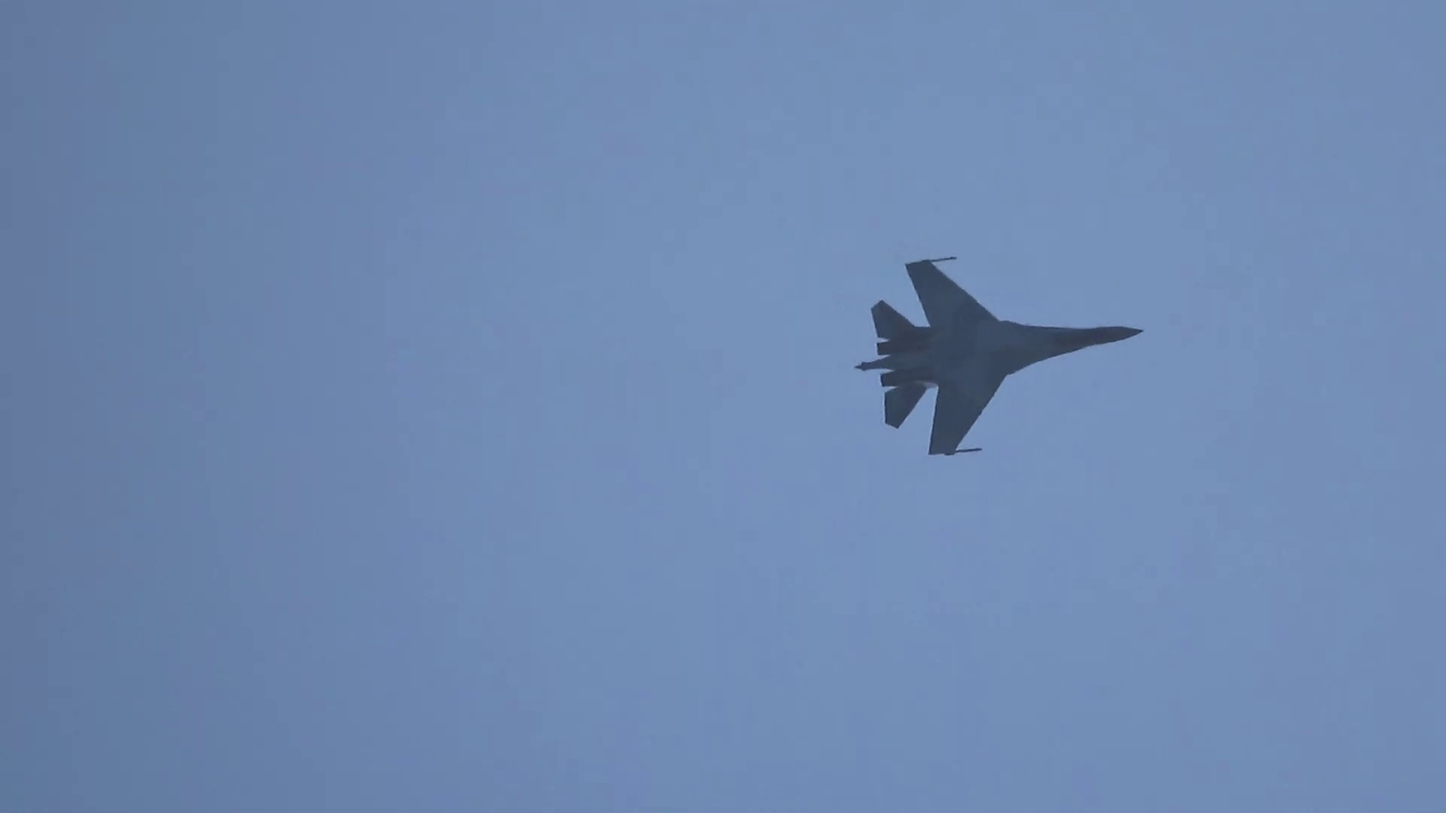Su35: (854, 255, 1145, 457)
